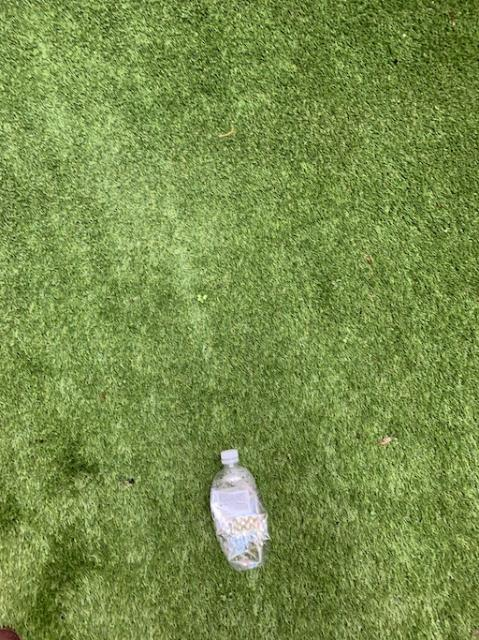plastic: (210, 448, 268, 569)
